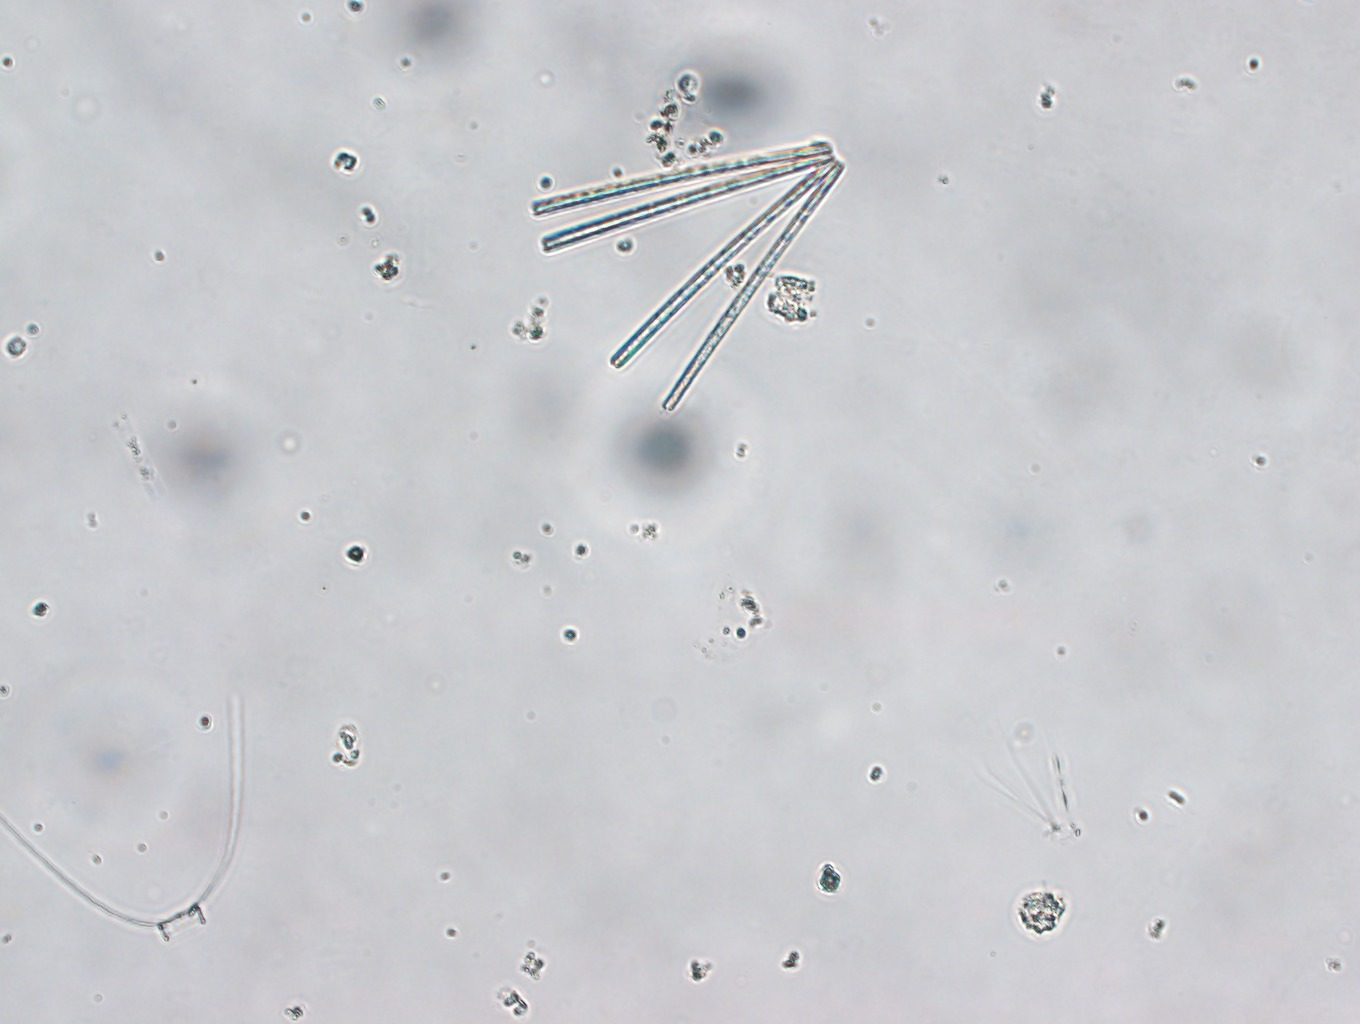chaetoceros: (2, 695, 268, 945)
thalassionema frauenfeldii: (514, 127, 846, 417)
